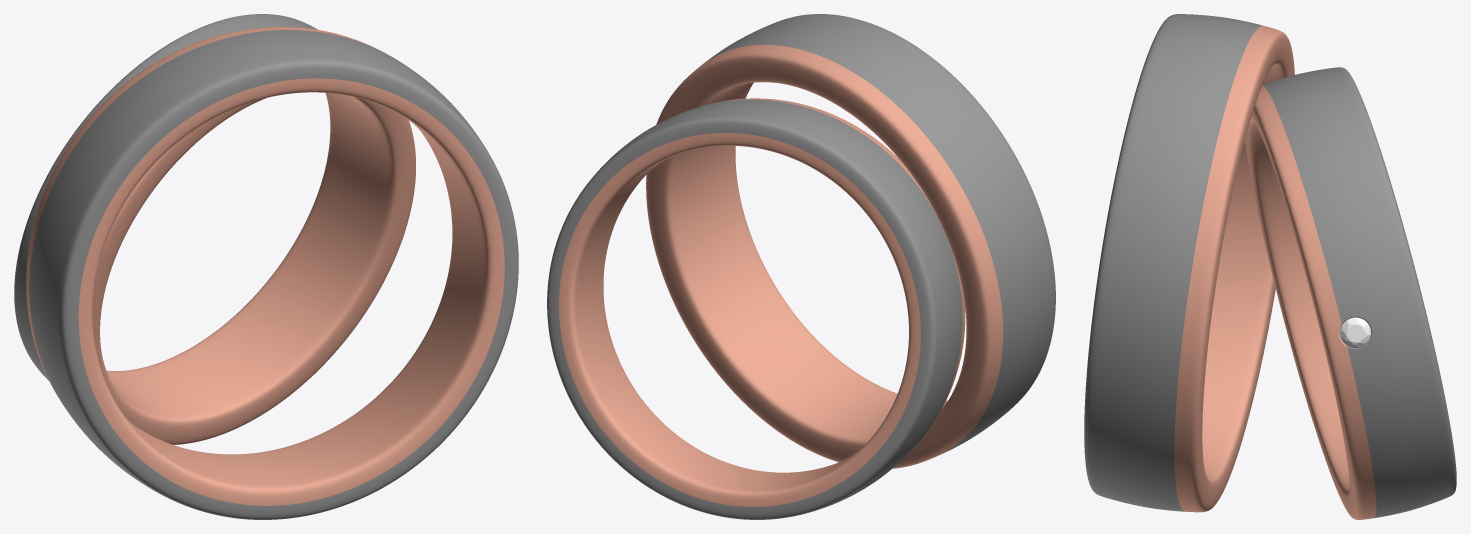
3 renders of one model, left to right at view 1: azimuth 30°, elevation 25°; view 2: azimuth 150°, elevation 25°; view 3: azimuth 270°, elevation 25°, orthographic. The views are drawn at different scales.
Visible parts, largest first — view 1: Torus003_1, Torus002_1, Torus003, Torus002; view 2: Torus003, Torus002, Torus002_1, Torus003_1; view 3: Torus003_1, Torus002, Torus003, Torus002_1, Brillant_1001.
Boxes of the visible parts, x1,y1,x2,y2 form: Torus003_1: (29,30,518,519); Torus002_1: (92,93,415,444); Torus003: (26,27,504,505); Torus002: (14,14,317,380); Torus003: (646,44,1003,468); Torus002: (547,99,962,519); Torus002_1: (559,98,965,506); Torus003_1: (702,14,1055,453); Torus003_1: (1084,14,1262,511); Torus002: (1262,67,1456,517); Torus003: (1174,25,1294,512); Torus002_1: (1244,85,1376,519); Brillant_1001: (1340,317,1370,347).
Size of what is drawn, in the model's own units: 2.51 by 2.49 by 1.87.
